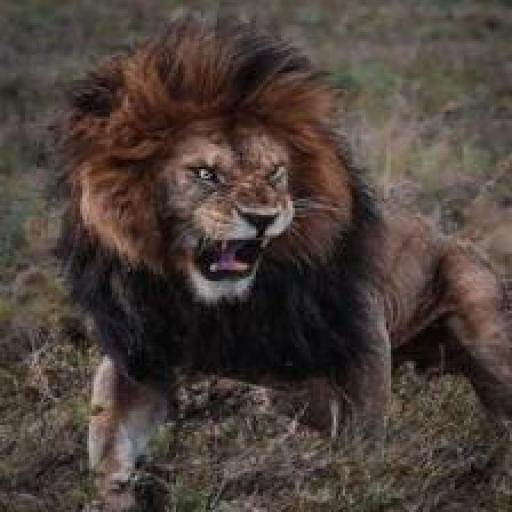lion: (52, 48, 358, 329)
